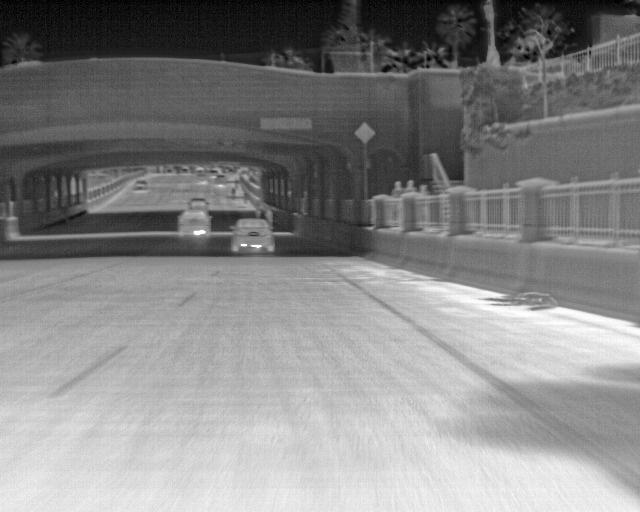bicycle: (232, 217, 277, 255), (175, 208, 212, 238), (184, 195, 208, 212), (130, 174, 147, 194)
empty: (399, 176, 417, 195), (413, 180, 428, 197), (392, 180, 404, 197)
